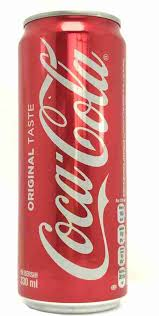can: (16, 9, 133, 314)
